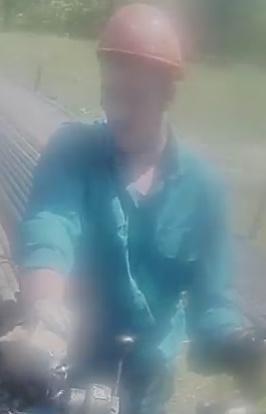gloves: (1, 281, 75, 372), (213, 317, 266, 402)
helmet: (96, 4, 188, 74)
vest: (20, 119, 234, 363)
